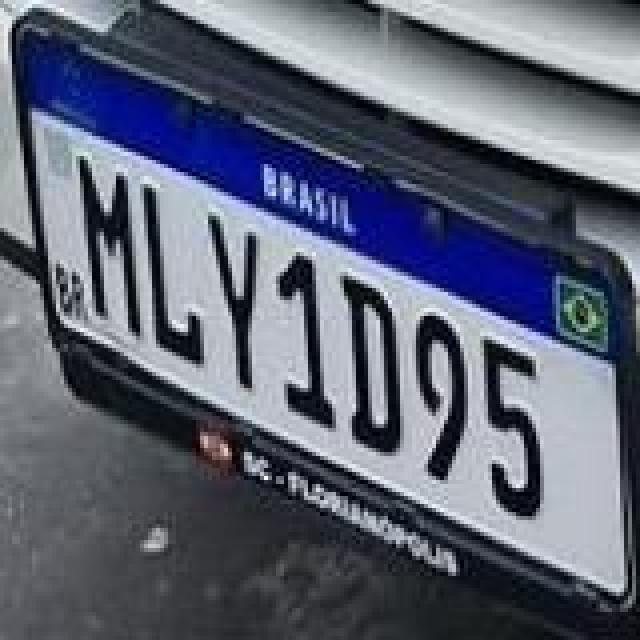1: (272, 254, 336, 434)
5: (480, 330, 544, 518)
9: (410, 310, 470, 482)
D: (340, 270, 404, 458)
L: (142, 180, 210, 364)
M: (78, 154, 146, 342)
Y: (204, 214, 260, 394)
